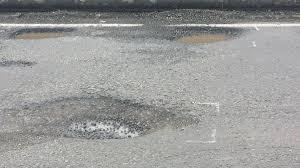Pothole: (19, 96, 187, 145), (159, 23, 248, 51), (5, 22, 86, 47), (0, 54, 47, 76)
